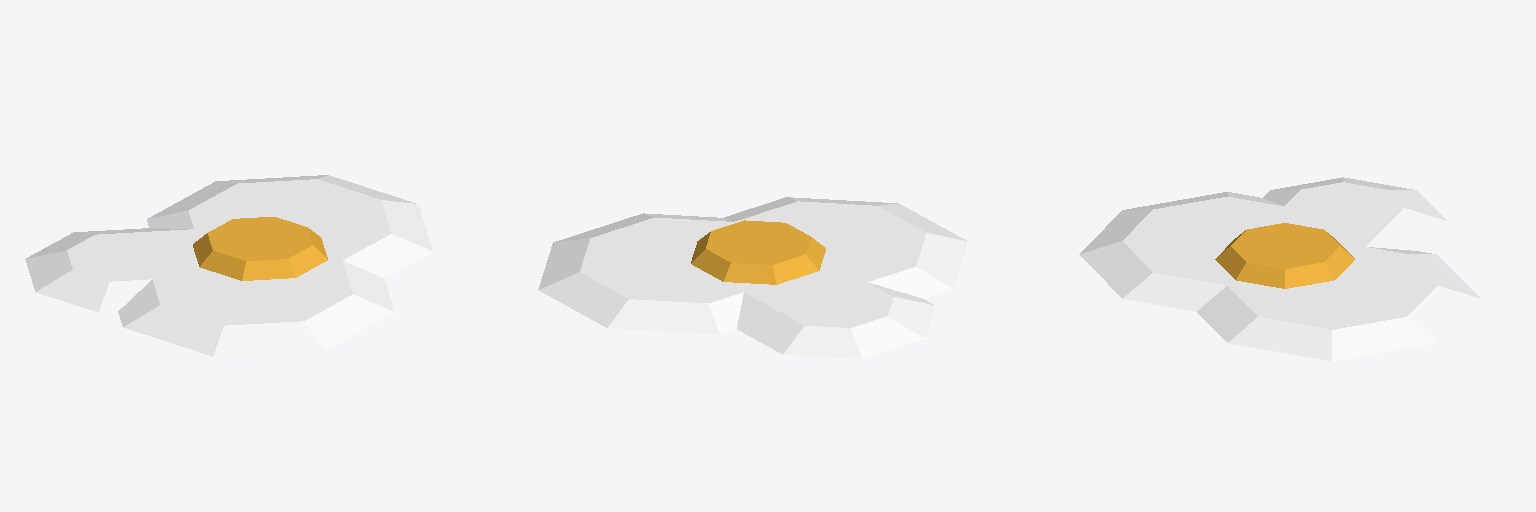
Rendered from eggCooked.obj.
3 renders of one model, left to right at view 1: azimuth 30°, elevation 25°; view 2: azimuth 150°, elevation 25°; view 3: azimuth 270°, elevation 25°, orthographic.
Parts seen in each view (by area): view 1: eggCooked; view 2: eggCooked; view 3: eggCooked.
Part boxes in pixels (x1,y1,x2,y2): eggCooked: (25, 175, 432, 356); eggCooked: (538, 197, 967, 358); eggCooked: (1079, 177, 1480, 361).
Bounding box in the file's own units: 0.4141 × 0.0282 × 0.3817.